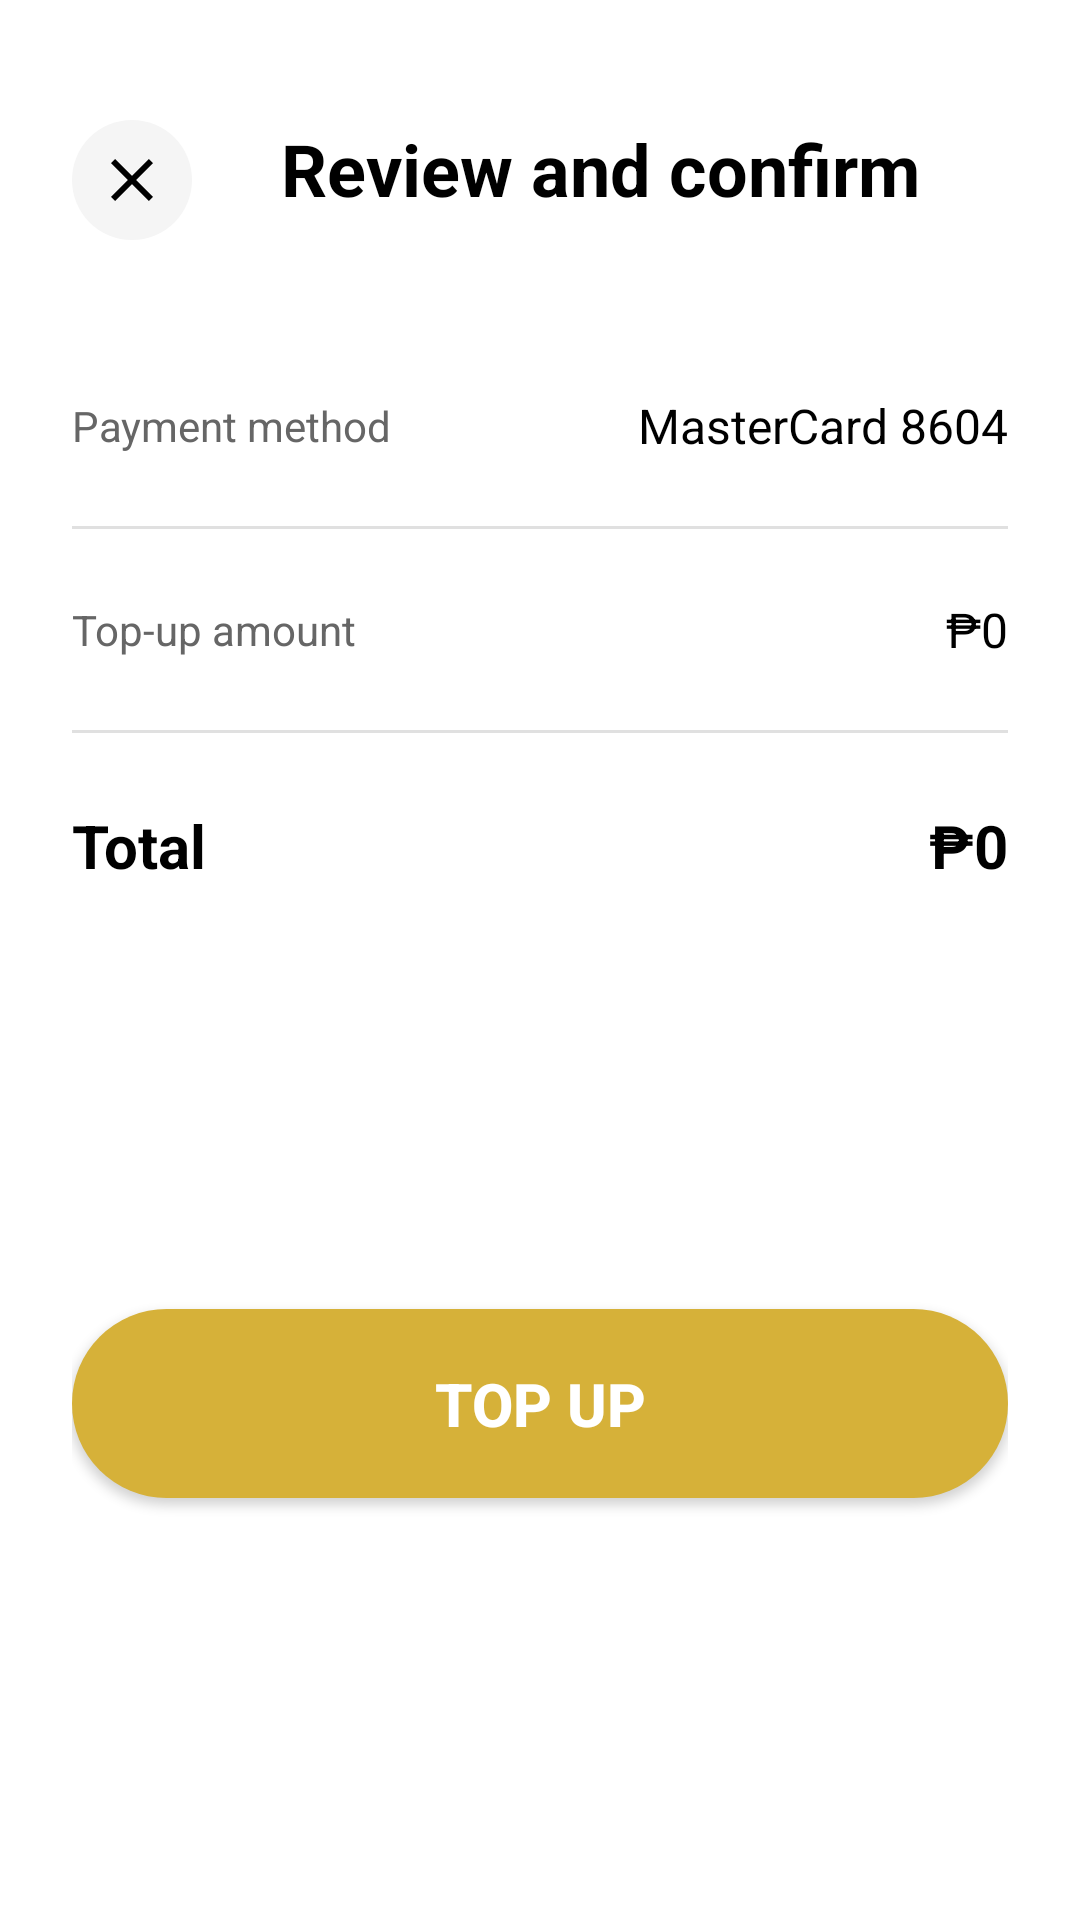

Where to tap for icons on this 1080w x 1920h app screen, as [x,y]:
Close: [132,180]
